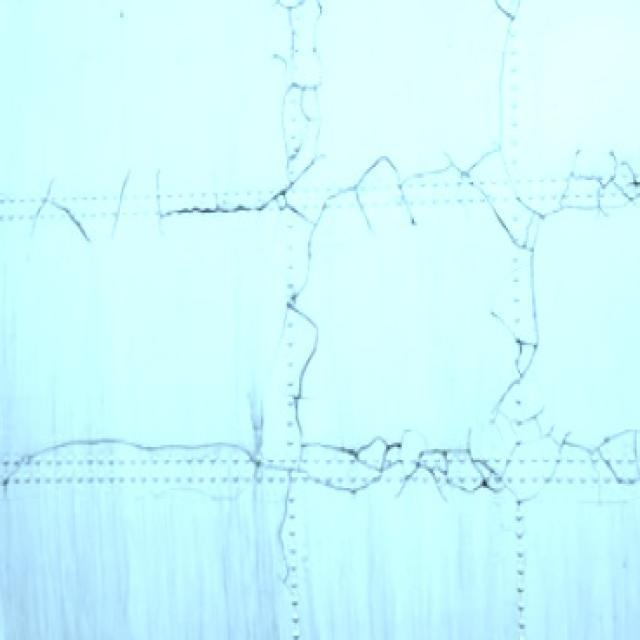crack: (9, 142, 640, 252), (6, 424, 640, 513), (257, 148, 351, 600), (495, 3, 547, 513), (269, 3, 335, 142)
